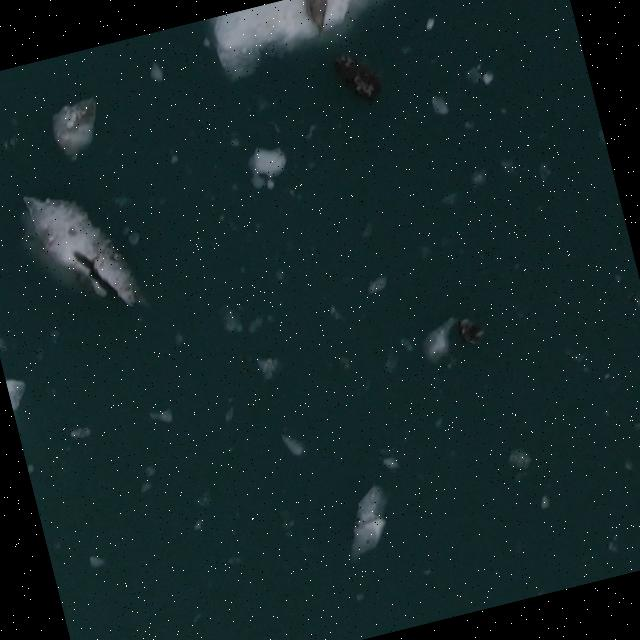seal: (296, 0, 343, 47)
